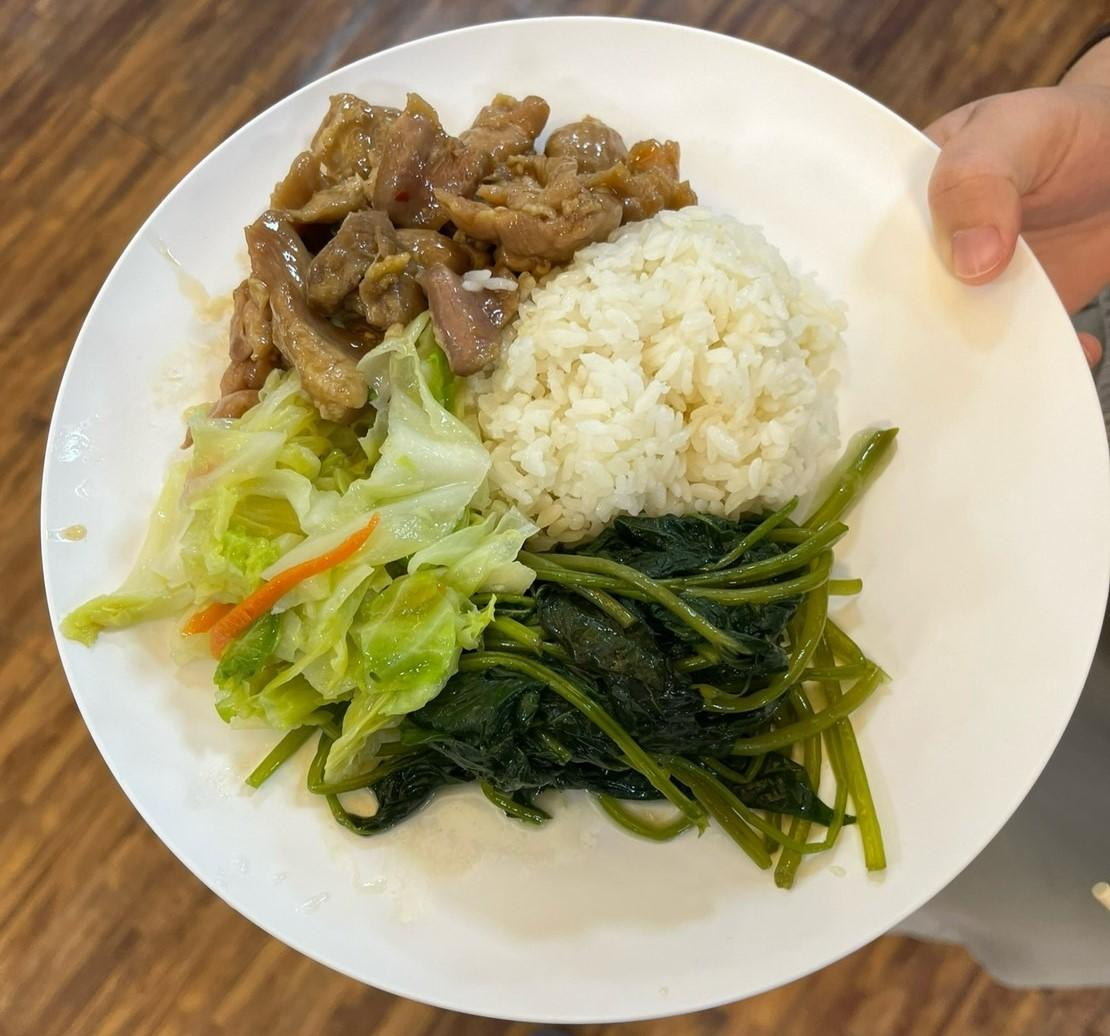big fried chicken leg: (31, 10, 1110, 1026)
big herbal chicken leg: (486, 196, 846, 530)
braised fish fillet: (404, 425, 926, 892), (118, 349, 532, 788)
braised pork: (196, 79, 701, 424)
